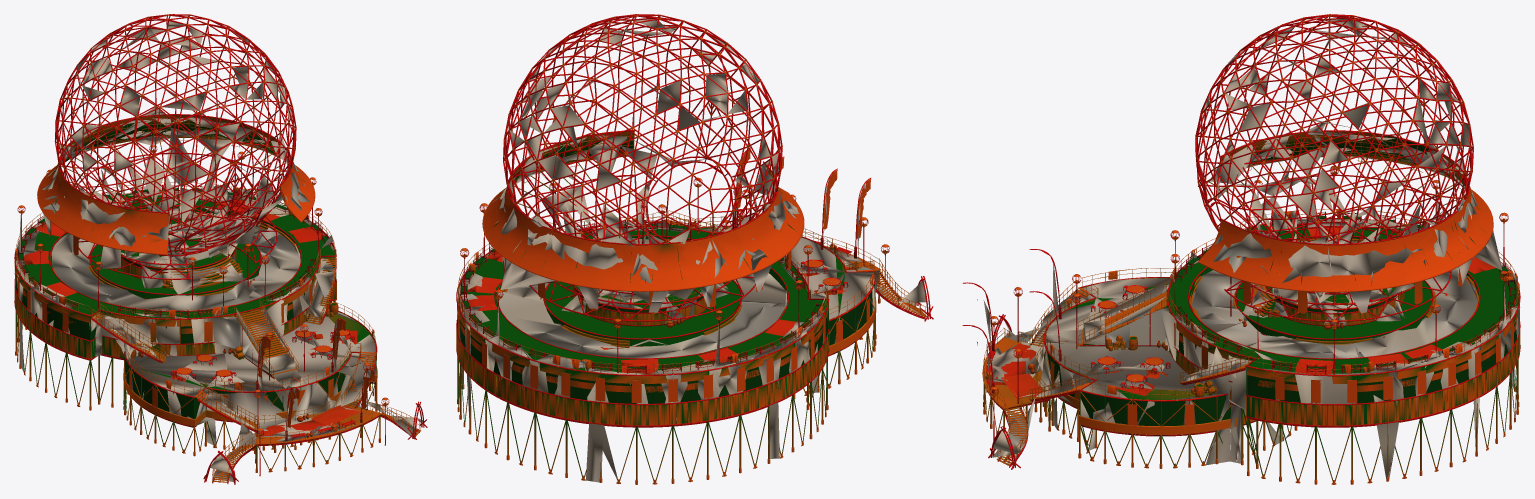
File: KB3D_GAE_BldgLG_A.glb
3 views of the same model, side by side, from view 1: azimuth 30°, elevation 25°; view 2: azimuth 150°, elevation 25°; view 3: azimuth 270°, elevation 25° (orthographic). The views are drawn at different scales.
Parts seen in each view (by area): view 1: L0, L2, L1; view 2: L0, L2, L1; view 3: L0, L2, L1.
Boxes of the visible parts, left/top/right/bottom form: L0: left=14, top=14, right=427, bottom=484; L2: left=14, top=15, right=422, bottom=482; L1: left=14, top=27, right=425, bottom=483; L0: left=456, top=14, right=933, bottom=484; L2: left=457, top=19, right=925, bottom=482; L1: left=458, top=26, right=929, bottom=471; L0: left=962, top=14, right=1520, bottom=484; L2: left=983, top=19, right=1519, bottom=480; L1: left=972, top=18, right=1519, bottom=467.
Size of the model in its own units: 40.25 by 45.38 by 60.07.
